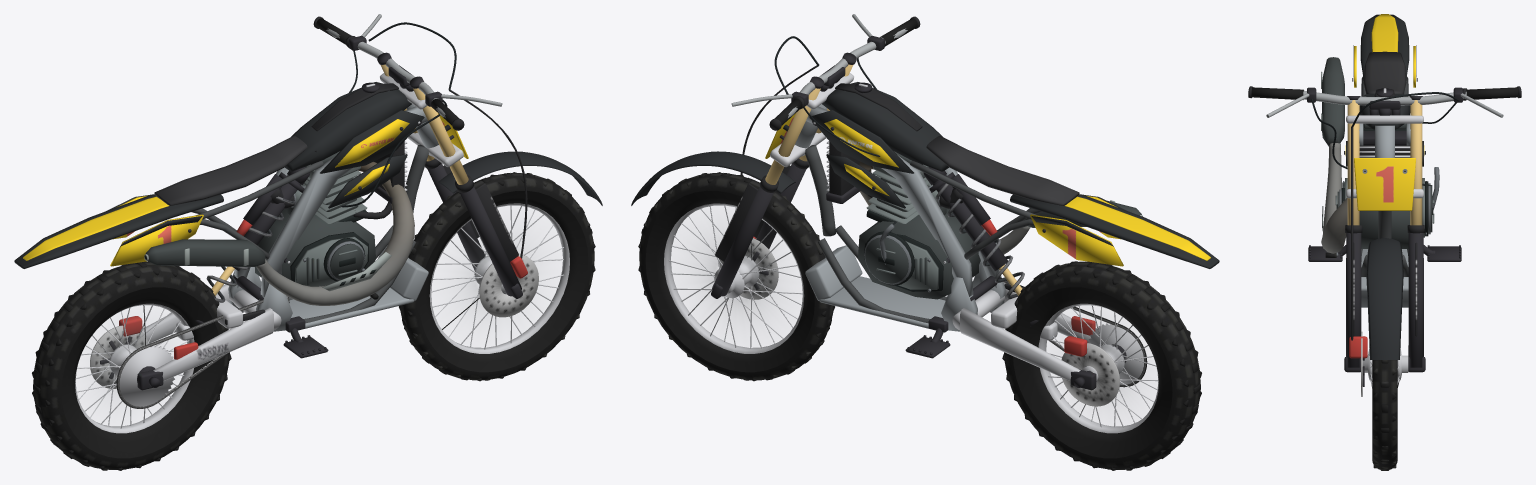
File: bike-pro-art.glb
3 views of the same model, side by side, from view 1: azimuth 30°, elevation 25°; view 2: azimuth 150°, elevation 25°; view 3: azimuth 270°, elevation 25° (orthographic). The views are drawn at different scales.
Parts seen in each view (by area): view 1: wheel_rear, bodywork, wheel_front, frame, exhaust, engine, fork_lower, swingarm, handlebar, fork_upper, sprocket_rear, shock_body (+7 smaller); view 2: wheel_rear, bodywork, wheel_front, frame, engine, fork_lower, swingarm, handlebar, wheel_front_blur, fork_upper, wheel_front_spokes, shock_body (+6 smaller); view 3: fork_lower, fork_upper, bodywork, handlebar, exhaust, wheel_front, frame, engine, pegs, brake_hose.
Part boxes in pixels (x1=…): wheel_rear: x1=32, y1=261, x2=231, y2=470; bodywork: x1=14, y1=82, x2=424, y2=268; wheel_front: x1=398, y1=172, x2=595, y2=381; frame: x1=191, y1=104, x2=438, y2=332; exhaust: x1=144, y1=161, x2=414, y2=305; engine: x1=255, y1=150, x2=378, y2=299; fork_lower: x1=425, y1=151, x2=602, y2=298; swingarm: x1=119, y1=281, x2=281, y2=390; handlebar: x1=313, y1=14, x2=502, y2=207; fork_upper: x1=377, y1=52, x2=468, y2=184; sprocket_rear: x1=119, y1=345, x2=174, y2=406; shock_body: x1=232, y1=167, x2=310, y2=271; wheel_rear: x1=1002, y1=261, x2=1201, y2=470; bodywork: x1=809, y1=82, x2=1219, y2=268; wheel_front: x1=638, y1=172, x2=835, y2=381; frame: x1=795, y1=104, x2=1042, y2=332; engine: x1=858, y1=151, x2=980, y2=299; fork_lower: x1=631, y1=151, x2=808, y2=298; swingarm: x1=952, y1=282, x2=1096, y2=390; handlebar: x1=731, y1=14, x2=922, y2=235; wheel_front_blur: x1=695, y1=232, x2=777, y2=321; fork_upper: x1=765, y1=52, x2=856, y2=184; wheel_front_spokes: x1=668, y1=205, x2=802, y2=348; shock_body: x1=923, y1=167, x2=1007, y2=271; fork_lower: x1=1344, y1=225, x2=1425, y2=372; fork_upper: x1=1346, y1=96, x2=1423, y2=225; bodywork: x1=1344, y1=14, x2=1425, y2=166; handlebar: x1=1248, y1=86, x2=1521, y2=185; exhaust: x1=1321, y1=57, x2=1360, y2=253; wheel_front: x1=1361, y1=331, x2=1408, y2=470; frame: x1=1359, y1=77, x2=1410, y2=307; engine: x1=1325, y1=123, x2=1439, y2=257; pegs: x1=1308, y1=245, x2=1461, y2=261; brake_hose: x1=1351, y1=127, x2=1353, y2=340.
Size of the model in its own units: 2.06 by 1.2 by 0.875.
16 materials, 7 textured.
